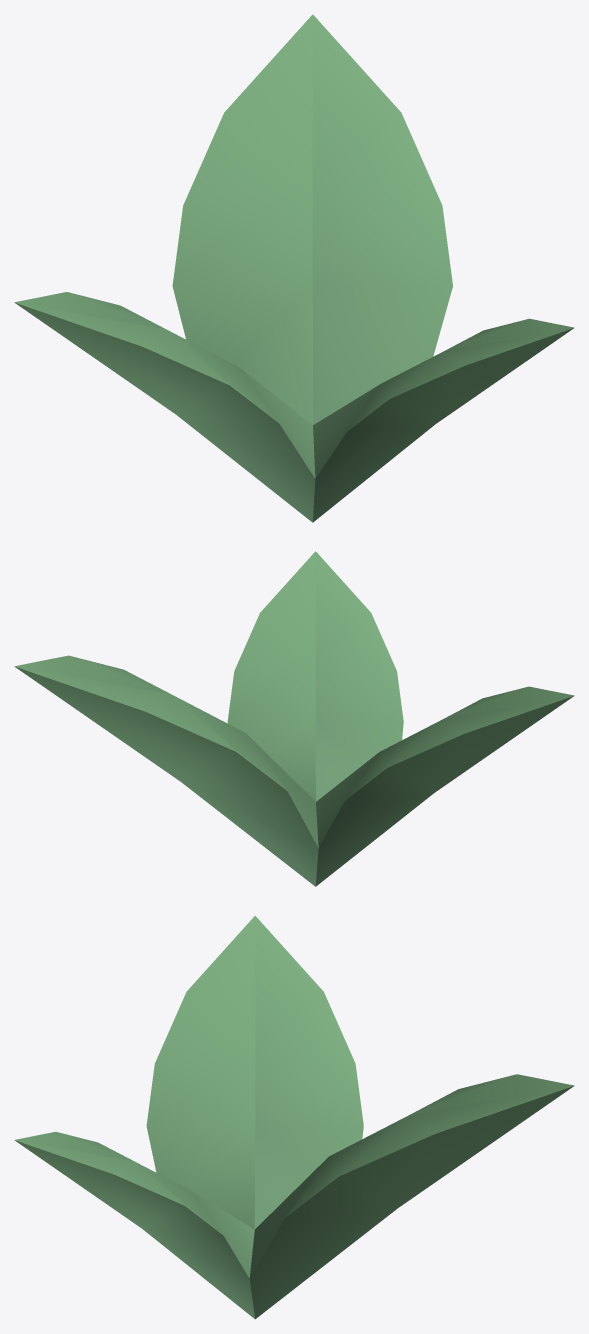
The model's file is waterplant_a.gltf.
3 renders of one model, top to bottom at view 1: azimuth 30°, elevation 25°; view 2: azimuth 150°, elevation 25°; view 3: azimuth 270°, elevation 25°, orthographic. The views are drawn at different scales.
Visible parts, largest first — view 1: waterplant_a; view 2: waterplant_a; view 3: waterplant_a.
Part boxes in pixels (bbox=[...]): waterplant_a: bbox=[14, 14, 574, 522]; waterplant_a: bbox=[14, 551, 574, 886]; waterplant_a: bbox=[14, 915, 574, 1319].
Bounding box in the file's own units: 0.1983 × 0.1323 × 0.2157.
